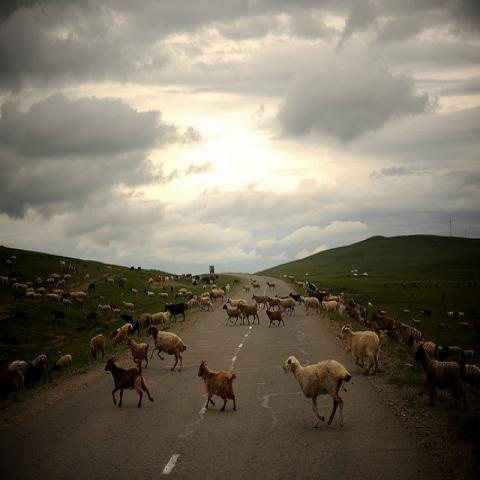truck: (208, 264, 214, 274)
